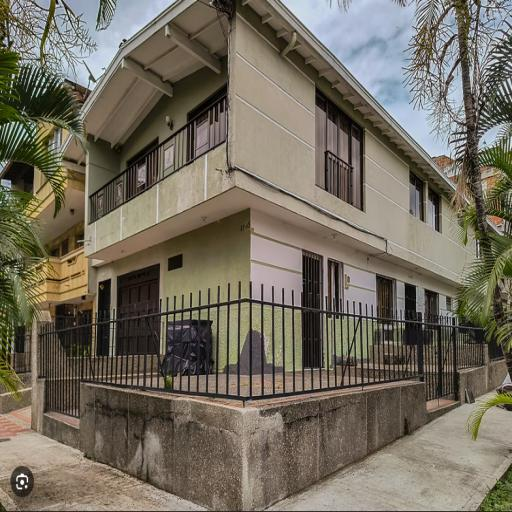casa: (42, 10, 484, 470)
